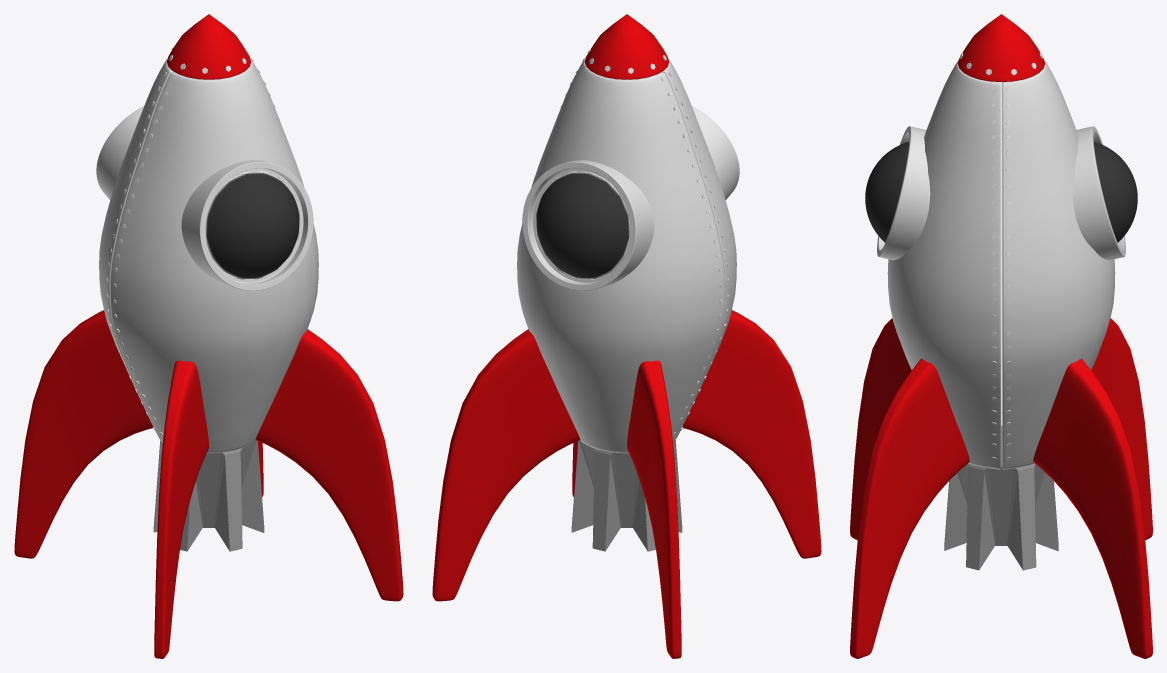
Rendered from Stylized Rocket.fbx.
3 renders of one model, left to right at view 1: azimuth 30°, elevation 25°; view 2: azimuth 150°, elevation 25°; view 3: azimuth 270°, elevation 25°, orthographic. The views are drawn at different scales.
Parts seen in each view (by area): view 1: rocket; view 2: rocket; view 3: rocket.
Part boxes in pixels (x1,y1,x2,y2): rocket: [14, 14, 403, 658]; rocket: [432, 14, 821, 658]; rocket: [850, 14, 1152, 658].
Size of the model in its own units: 211 by 458 by 215.
